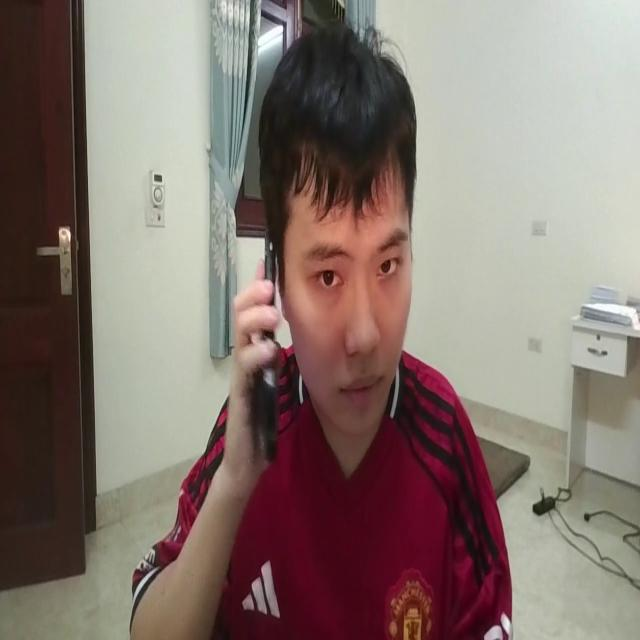phone: (253, 209, 285, 474)
student: (116, 12, 518, 640)
